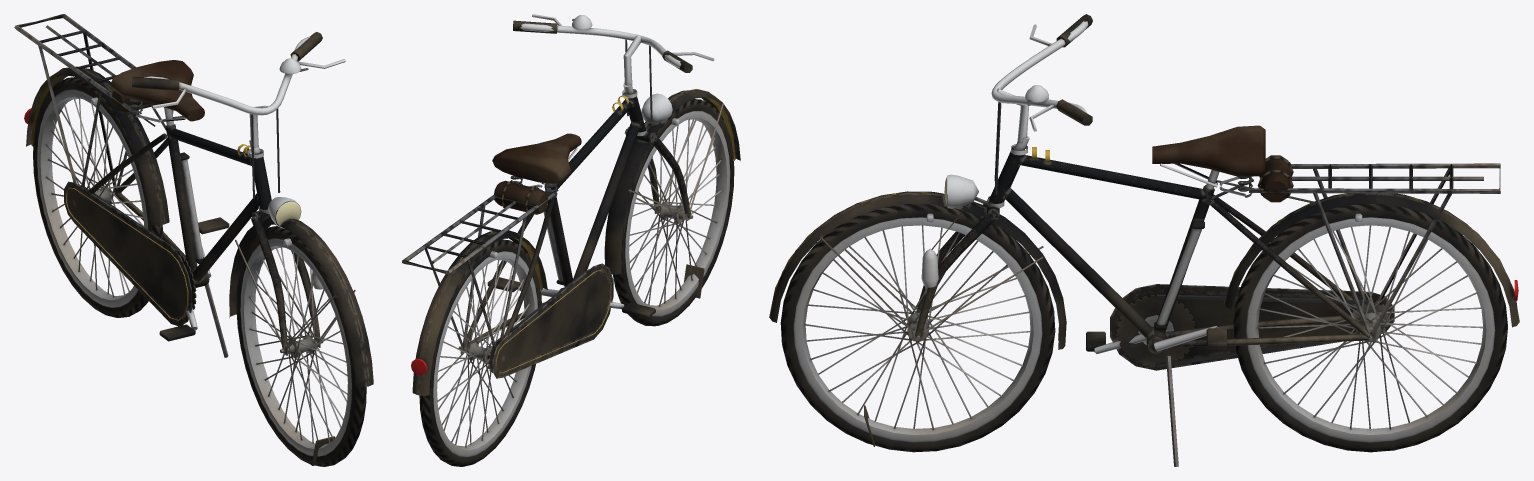
The model's file is bicycle.glb.
3 views of the same model, side by side, from view 1: azimuth 30°, elevation 25°; view 2: azimuth 150°, elevation 25°; view 3: azimuth 270°, elevation 25° (orthographic). The views are drawn at different scales.
Parts seen in each view (by area): view 1: body, wheel_F, steer, wheel_R, crank; view 2: body, wheel_F, wheel_R, steer, crank; view 3: body, wheel_F, wheel_R, steer, crank.
Boxes of the visible parts, x1,y1,x2,y2 form: body: [14, 14, 271, 357]; wheel_F: [236, 226, 366, 466]; steer: [132, 32, 373, 465]; wheel_R: [33, 77, 163, 317]; crank: [159, 217, 229, 341]; body: [402, 89, 647, 395]; wheel_F: [612, 99, 734, 326]; wheel_R: [419, 239, 541, 466]; steer: [513, 14, 740, 298]; crank: [487, 269, 655, 318]; body: [987, 125, 1519, 466]; wheel_F: [780, 204, 1055, 452]; wheel_R: [1233, 204, 1507, 452]; steer: [769, 14, 1092, 446]; crank: [1086, 295, 1226, 367].
Bounding box in the file's own units: 0.6112 × 1.06 × 1.86.
1 material, 1 textured.
